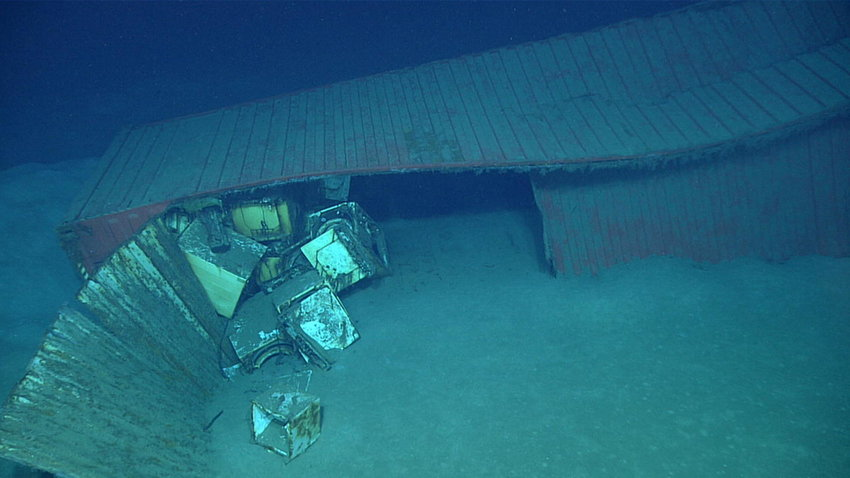Container: (56, 0, 850, 313)
Metal: (268, 268, 360, 363), (303, 196, 390, 295), (241, 380, 328, 461)
